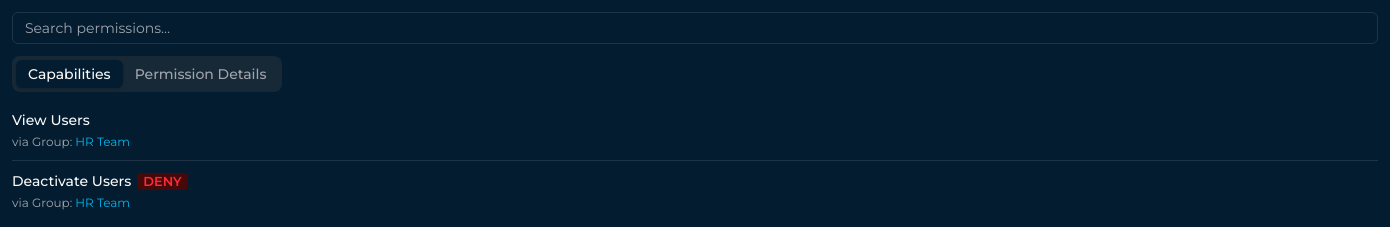
Test: EffectivePermissionsPanel › search › filters permissions by label
Type "view" into the search field labelled "Search permissions…" at x=695, y=28, box [12,12,1378,44]
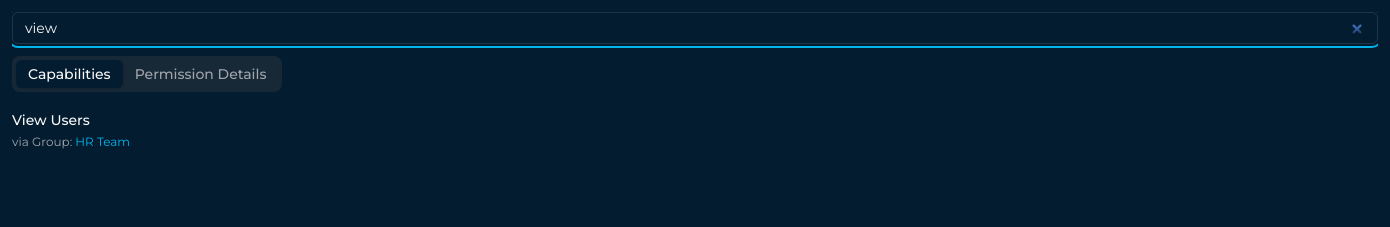
Expected: the text "View Users" is shown, [12,110,90,130]
Now the text "Deactivate Users" is gone
